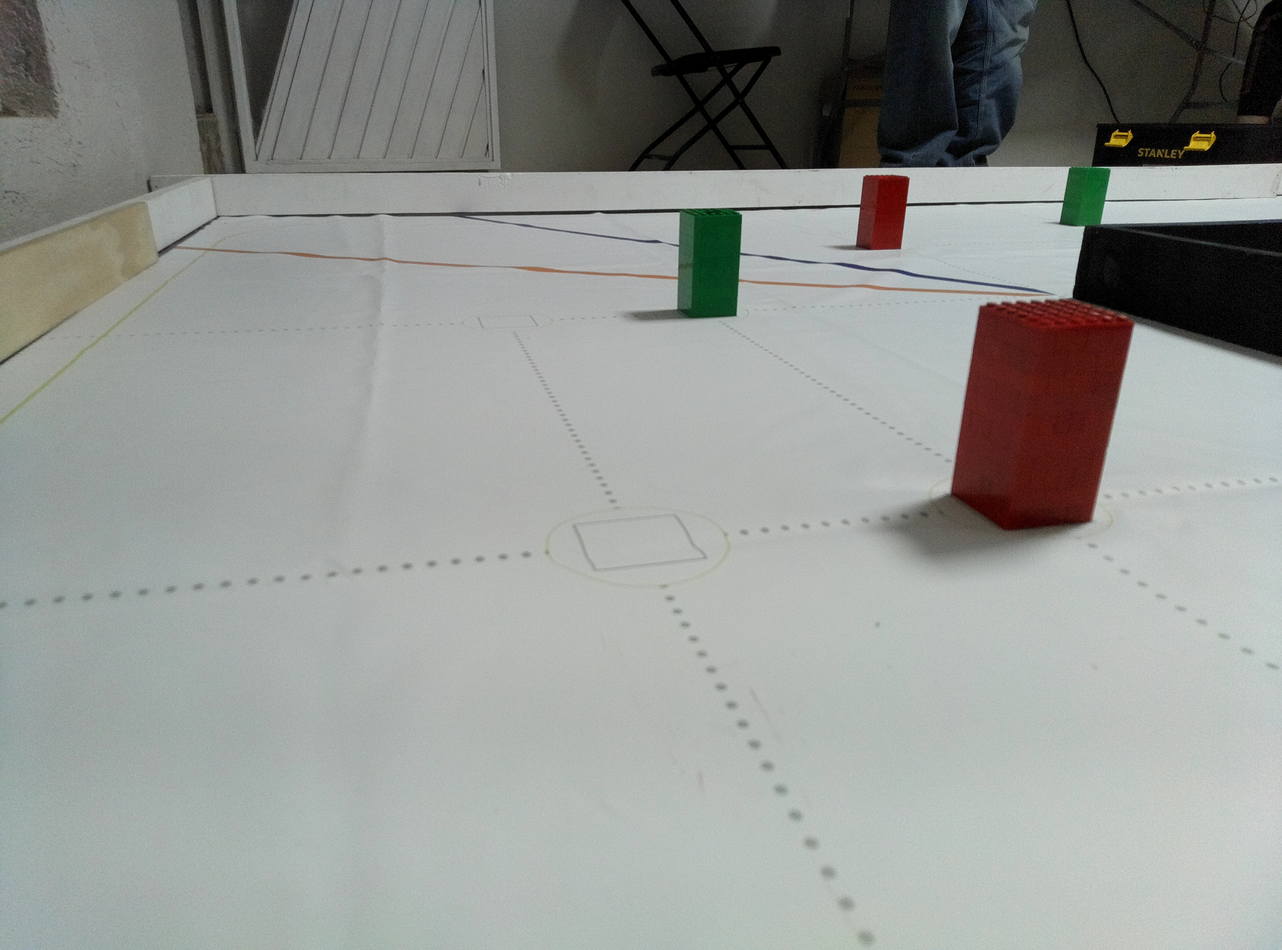greenbox: (675, 207, 743, 321), (1058, 167, 1111, 227)
redbox: (948, 296, 1137, 534), (855, 174, 910, 251)
